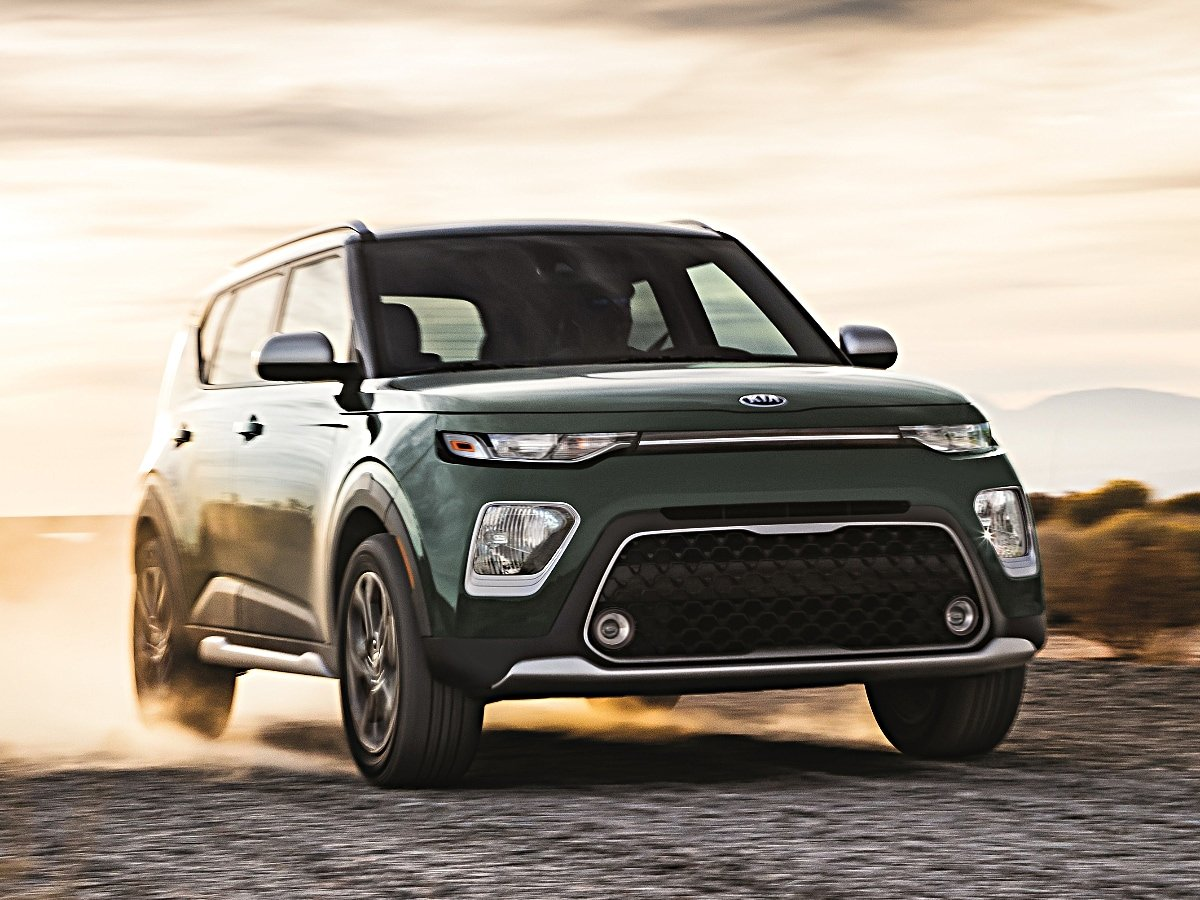car: (131, 217, 1047, 789)
